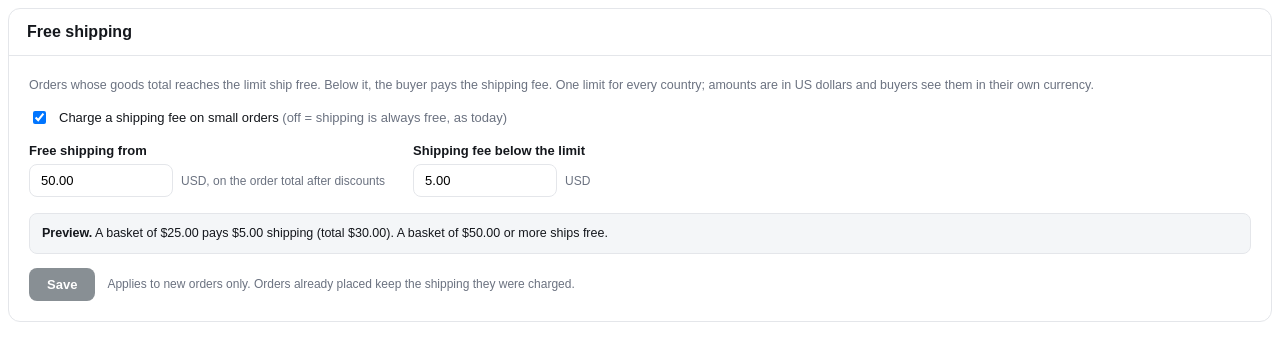
Test case: what it shows › nothing to save until something is changed
Expected: the button "Save" is disabled, [29,268,95,301]
Replace the text in the field labelled "Free shipping from" with "60" at [101, 181], box [29,164,173,197]
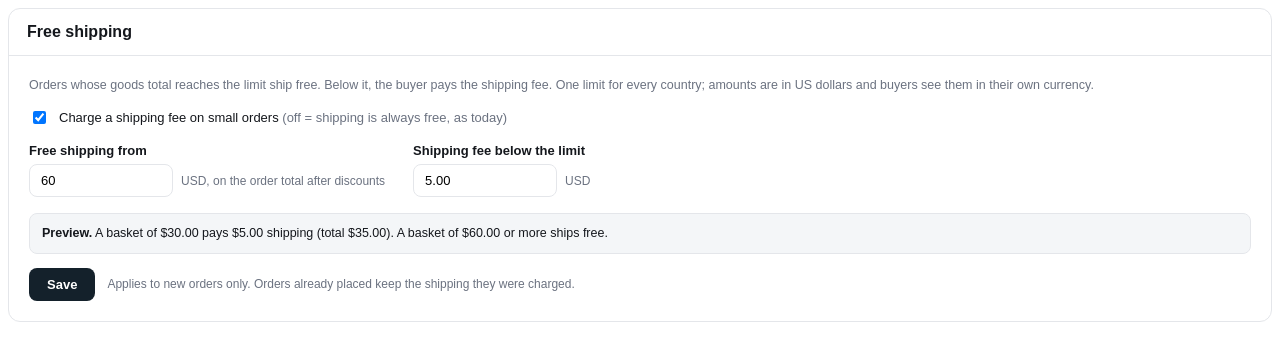
Now the button "Save" is enabled, box [29,268,95,301]
Replace the text in the field labelled "Free shipping from" with "50" at [101, 181], box [29,164,173,197]
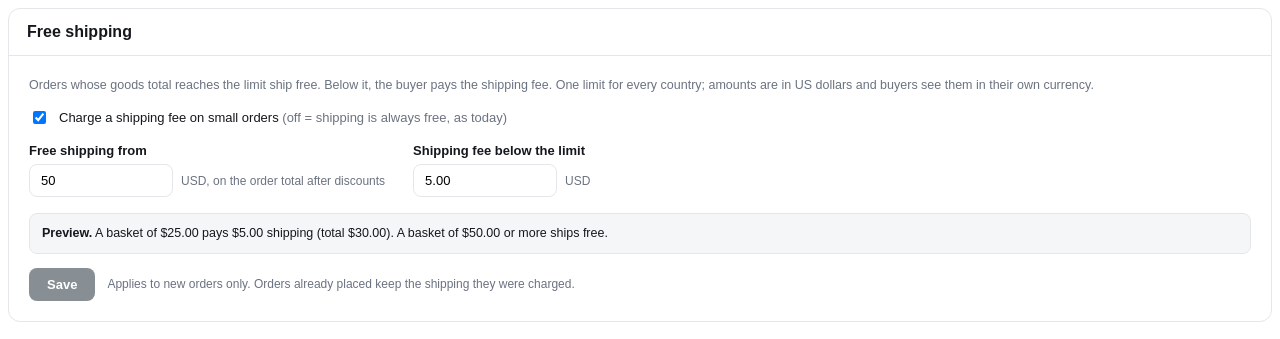
Now the button "Save" is disabled, box [29,268,95,301]
